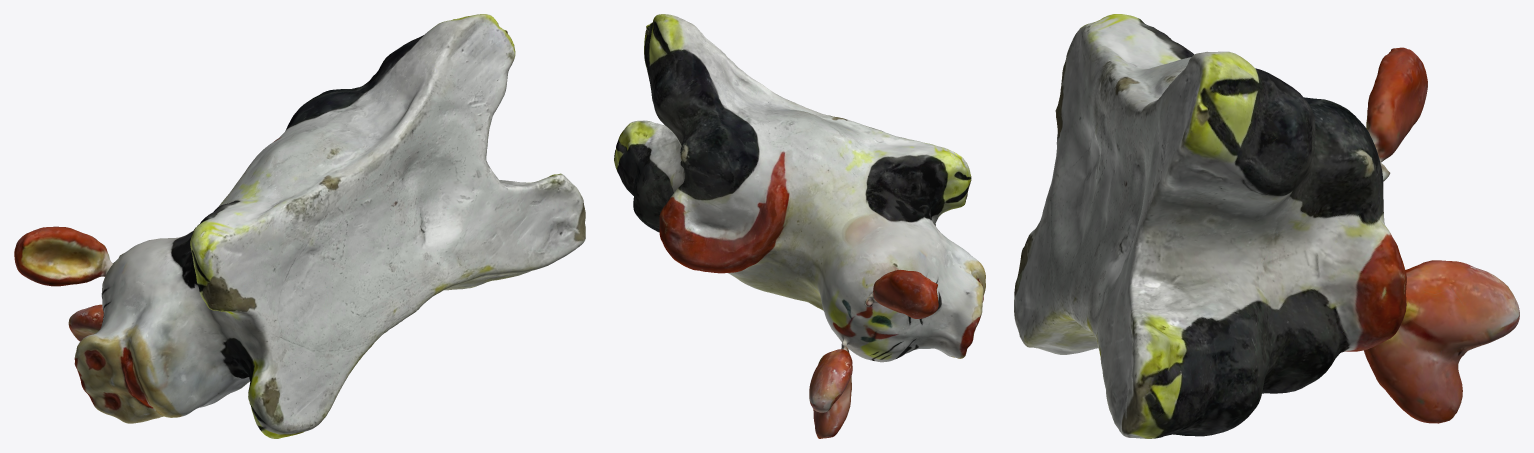
3 renders of one model, left to right at view 1: azimuth 30°, elevation 25°; view 2: azimuth 150°, elevation 25°; view 3: azimuth 270°, elevation 25°, orthographic. The views are drawn at different scales.
Size of the model in its own units: 0.9536 by 0.7335 by 0.6143.
Materials: 1 (1 with a texture image).
